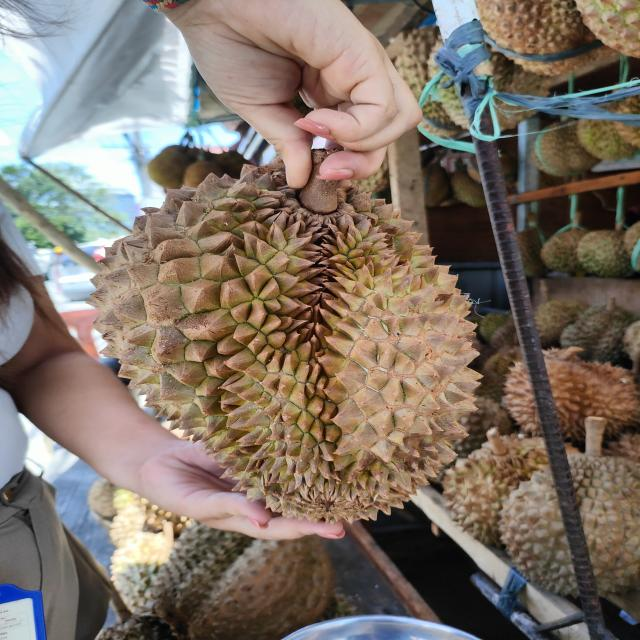mature: (89, 204, 486, 528)
